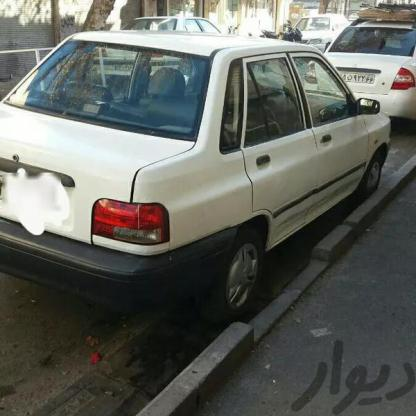Car: (0, 31, 390, 306), (312, 30, 416, 111), (291, 5, 363, 57), (84, 11, 230, 31)
